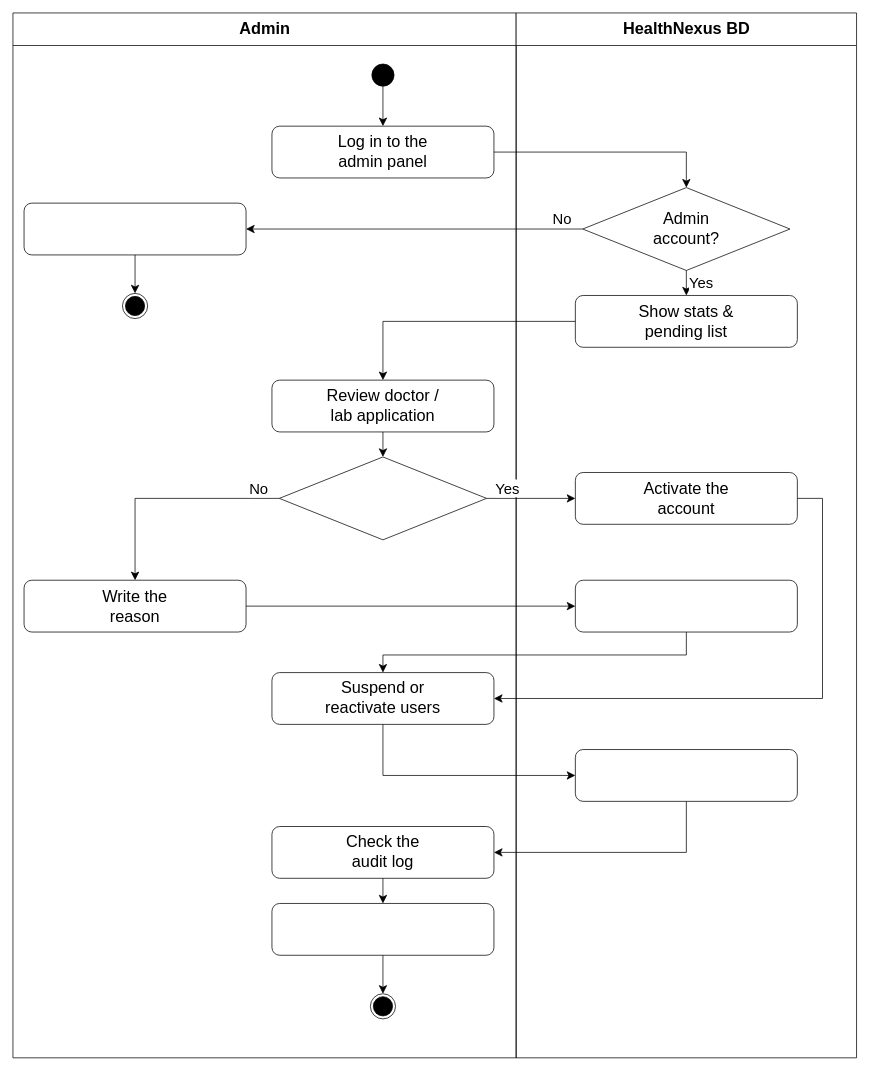
Some shapes in this 870 by 1071 pixel diagram are drawn without their labels. The shapes that lost their labels are listed below. From the top down, each one's centre as x and y in pixels, then its label:
At [134,228]: "Access refused".
At [383,498]: "Approve?".
At [686,605]: "Reject the application".
At [686,775]: "Sign out the suspended user".
At [382,929]: "Log out".
